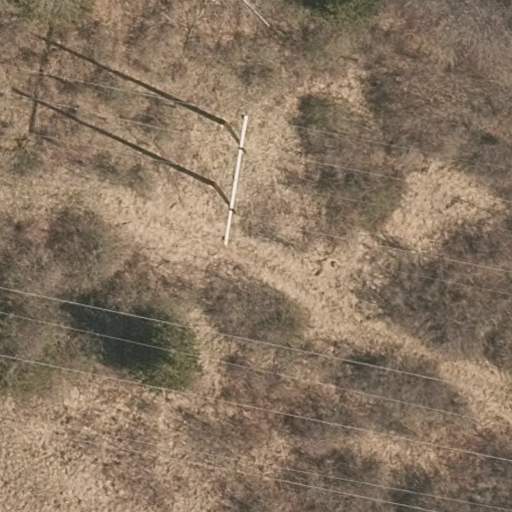DT: (196, 106, 264, 252)
